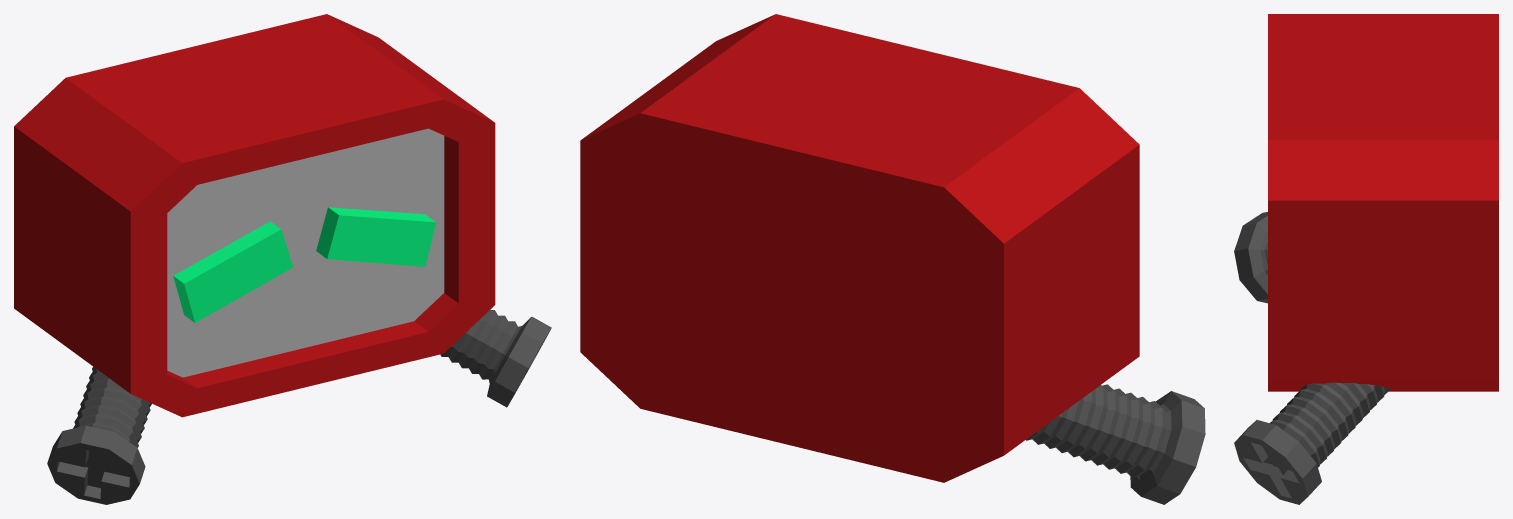
File: robot_mini.fbx
3 views of the same model, side by side, from view 1: azimuth 30°, elevation 25°; view 2: azimuth 150°, elevation 25°; view 3: azimuth 270°, elevation 25° (orthographic). The views are drawn at different scales.
Visible parts, largest first — view 1: Mesh; view 2: Mesh; view 3: Mesh.
Part boxes in pixels (x1=…): Mesh: x1=14, y1=14, x2=551, y2=504; Mesh: x1=580, y1=14, x2=1205, y2=504; Mesh: x1=1234, y1=14, x2=1498, y2=504.
Size of the model in its own units: 2.7 by 1.71 by 1.26.
